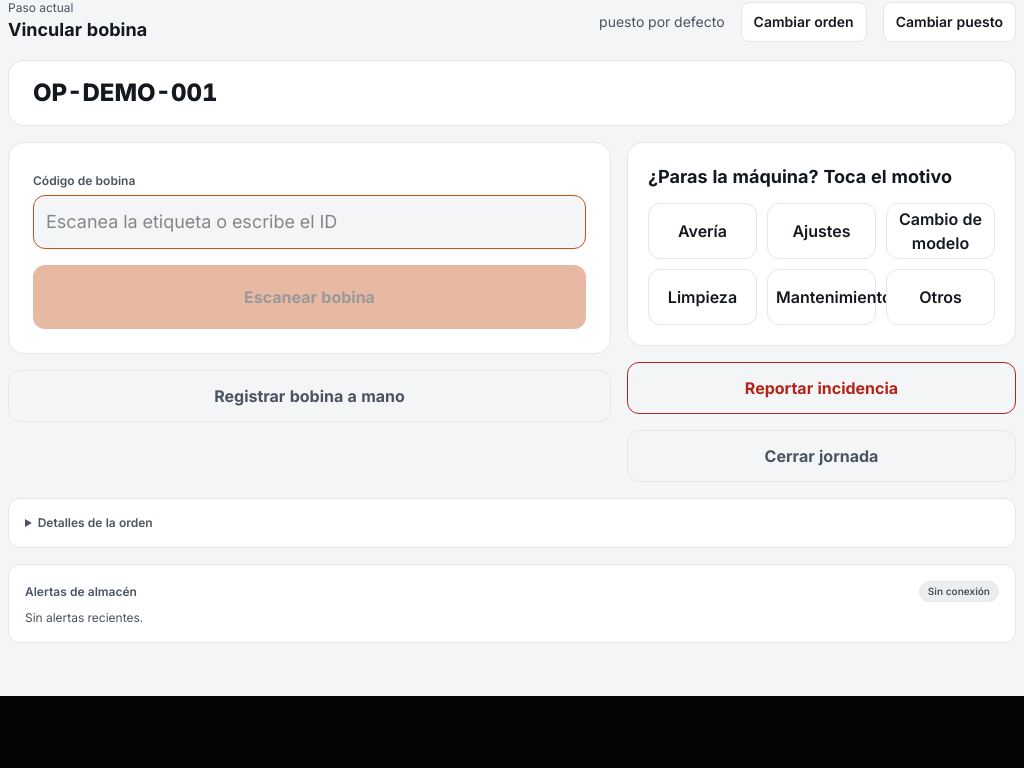
Scenario: Reportar incidencia (spec 04 §3.3) › formulario clásico: auto-importa operario, puesto, modelo y fecha
Click the button "Reportar incidencia": x=822, y=388 [627,362,1016,414]
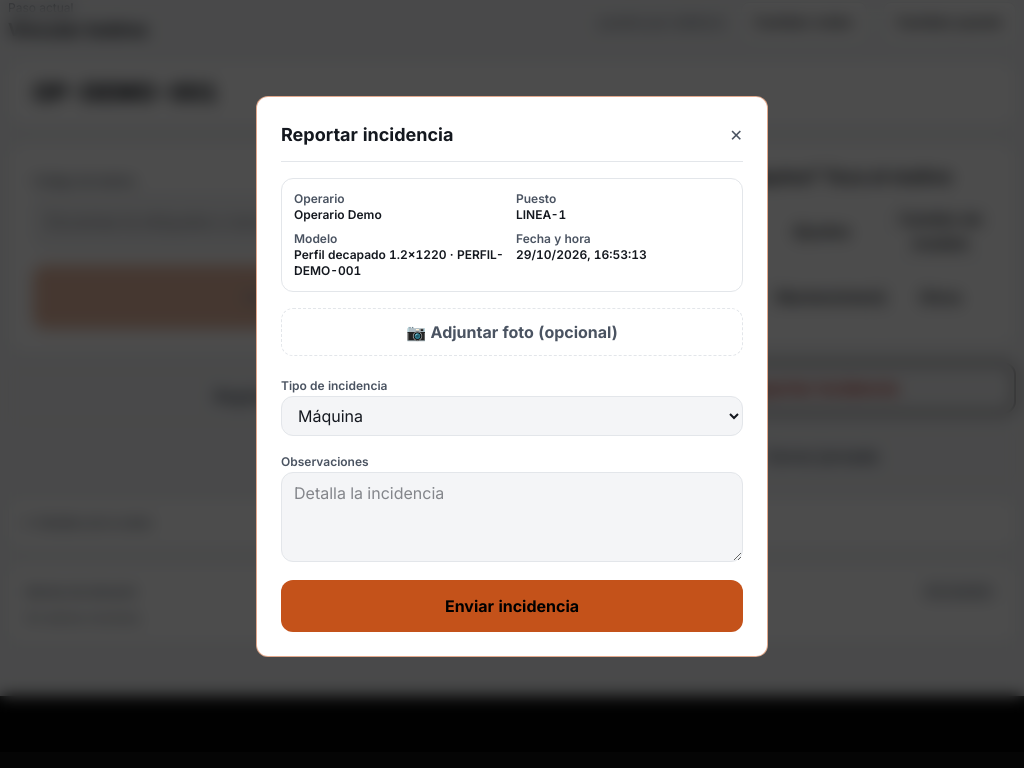
In the text box with placeholder "Detalla la incidencia": x=512, y=516 [281,472,743,562], type "Atasco en la cizalla"
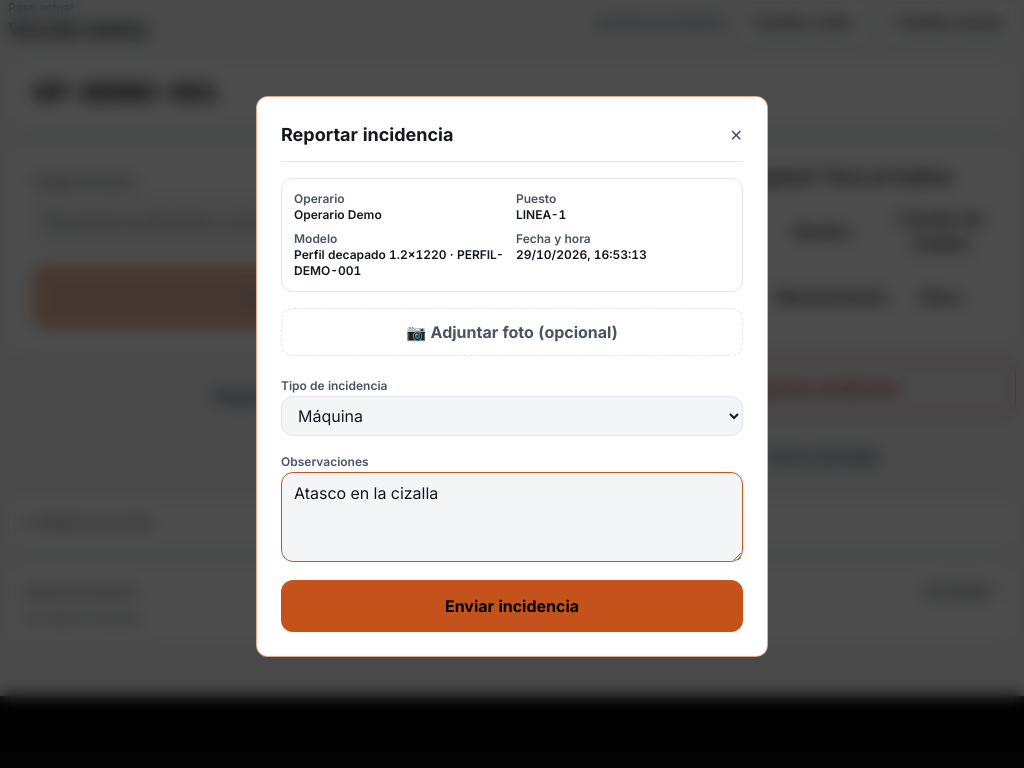
Select "Máquina" in the dropdown labelled "Tipo de incidencia": x=512, y=416 [281,396,743,436]
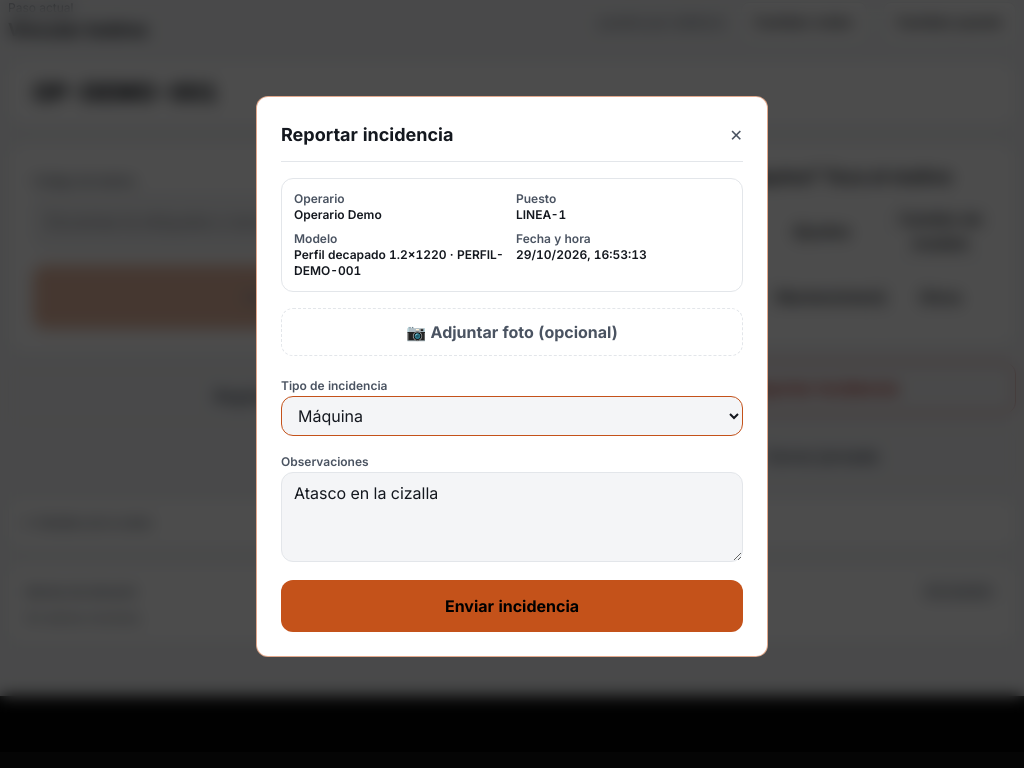
Click the button "Enviar incidencia": x=512, y=606 [281,580,743,632]
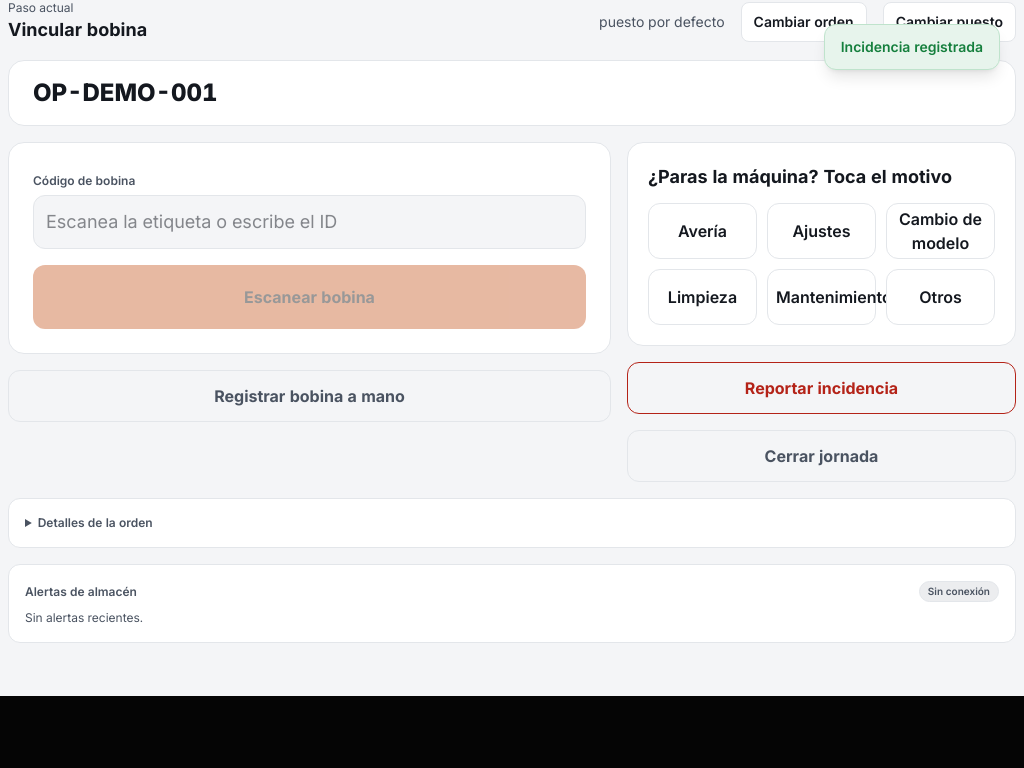
Check: the text "Incidencia registrada" is shown, box [824,24,1000,70]
